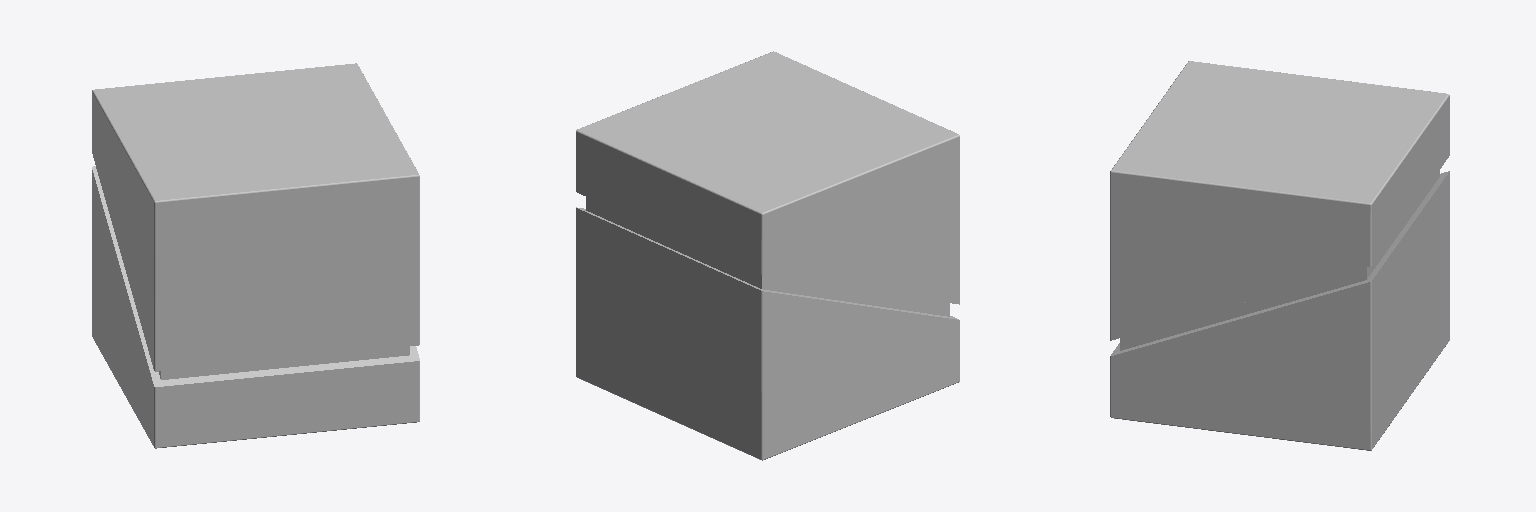
The model's file is case_test.obj.
3 renders of one model, left to right at view 1: azimuth 30°, elevation 25°; view 2: azimuth 150°, elevation 25°; view 3: azimuth 270°, elevation 25°, orthographic.
Parts seen in each view (by area): view 1: Top_Shell_1, Bottom_Shell_1; view 2: Top_Shell_1, Bottom_Shell_1; view 3: Top_Shell_1, Bottom_Shell_1.
Boxes of the visible parts, box(x1,y1,x2,y2) form: Top_Shell_1: box(92, 63, 419, 371); Bottom_Shell_1: box(92, 166, 419, 448); Top_Shell_1: box(576, 51, 959, 304); Bottom_Shell_1: box(576, 197, 959, 460); Top_Shell_1: box(1110, 61, 1449, 340); Bottom_Shell_1: box(1110, 170, 1449, 450).
Size of the model in its own units: 25.24 by 20.32 by 25.24.